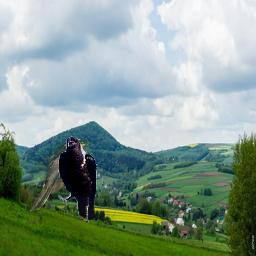Crow: (58, 136, 97, 223)
Cuckoo: (25, 139, 89, 214)
